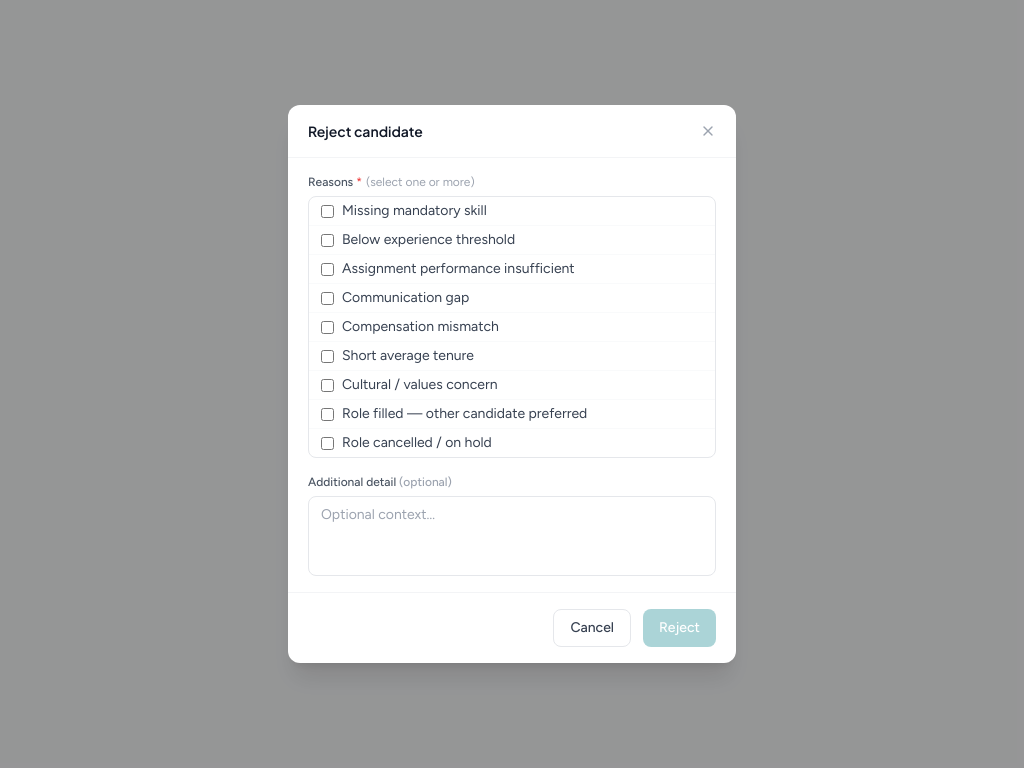
it: RejectReasonModal › will not reject until at least one reason is ticked
Check: the button "Reject" is disabled, box [643, 609, 716, 647]
Click the checkbox labelled "Communication gap" at (328, 298), box [321, 292, 334, 304]
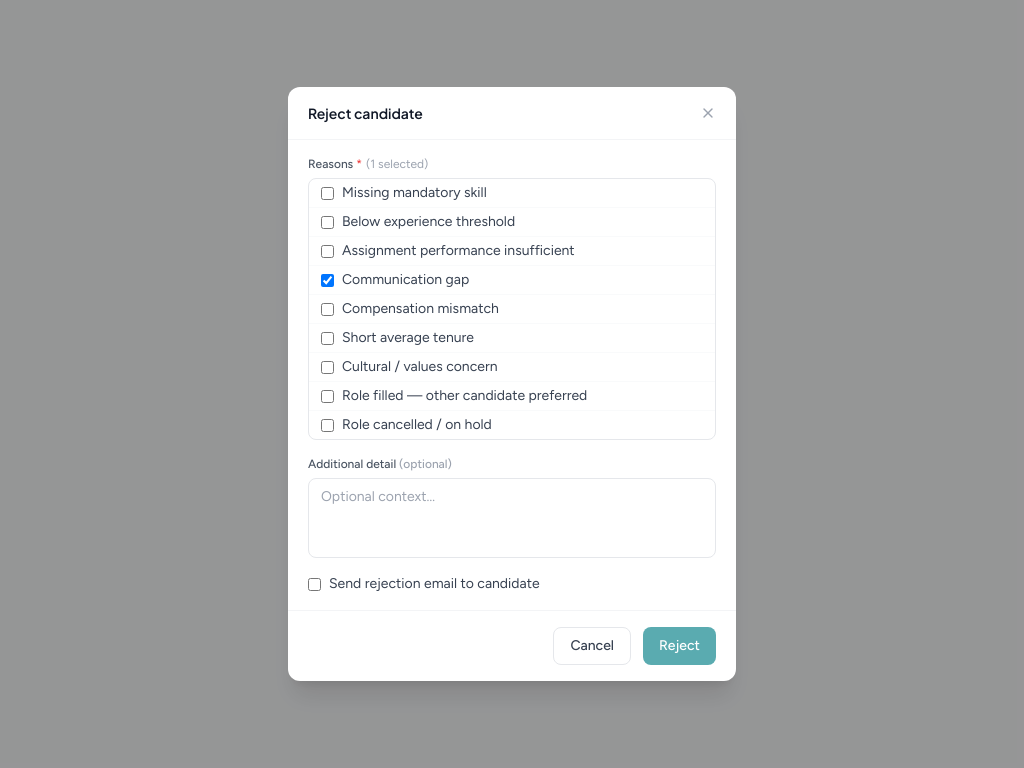
Check: the button "Reject" is enabled, box [643, 627, 716, 665]
Click the checkbox labelled "Communication gap" at (328, 280), box [321, 274, 334, 286]
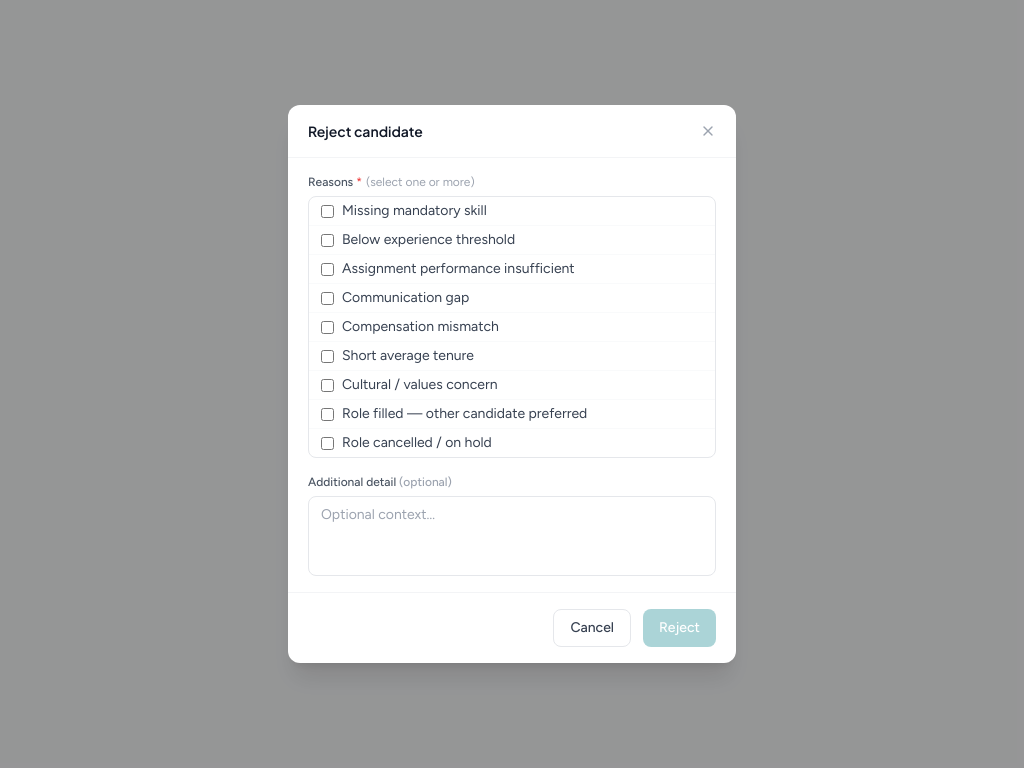
Check: the button "Reject" is disabled, box [643, 609, 716, 647]
